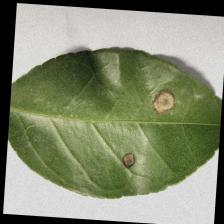canker: (116, 67, 180, 169)
